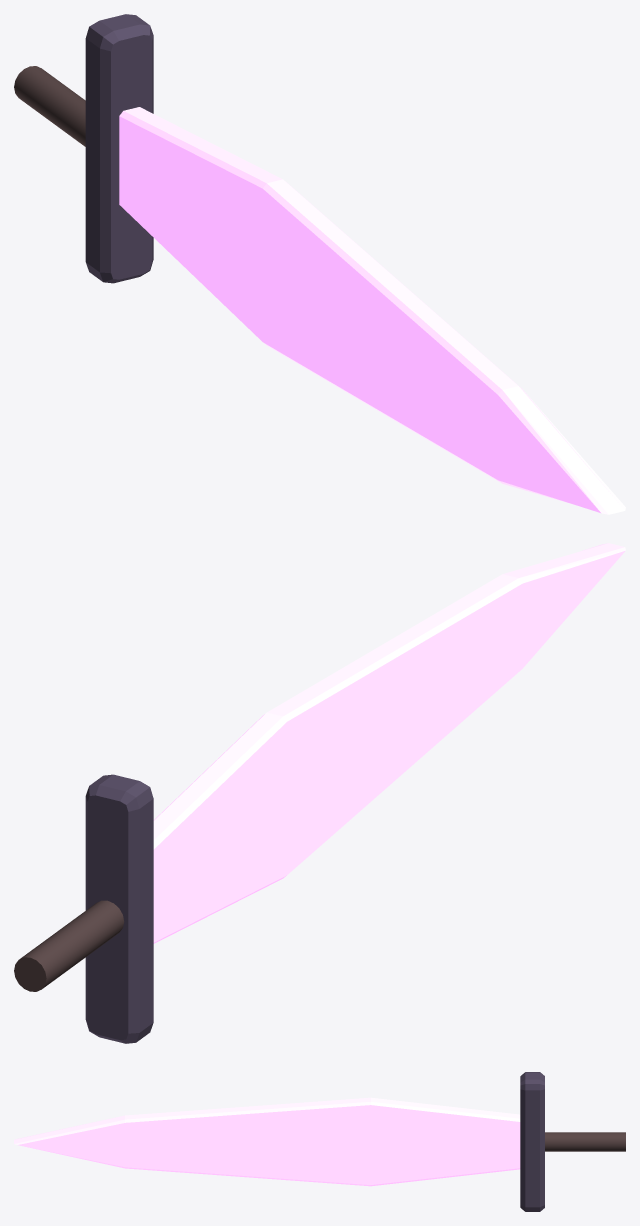
Rendered from espada_mg.glb.
3 renders of one model, top to bottom at view 1: azimuth 30°, elevation 25°; view 2: azimuth 150°, elevation 25°; view 3: azimuth 270°, elevation 25°, orthographic. The views are drawn at different scales.
Parts seen in each view (by area): view 1: Espada_MG; view 2: Espada_MG; view 3: Espada_MG.
Boxes of the visible parts, x1,y1,x2,y2 form: Espada_MG: (14,14,625,514); Espada_MG: (14,543,625,1043); Espada_MG: (14,1072,625,1211).
Size of the model in its own units: 0.066 by 0.296 by 1.25.
